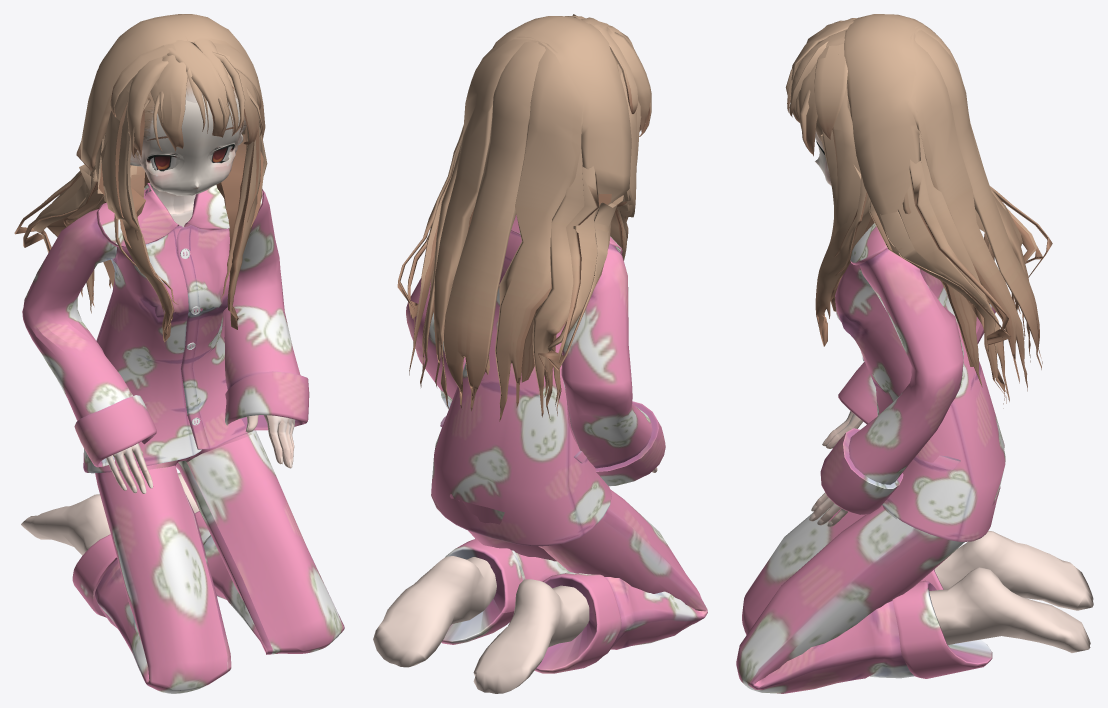
File: JUES_2_DZ.fbx
3 renders of one model, left to right at view 1: azimuth 30°, elevation 25°; view 2: azimuth 150°, elevation 25°; view 3: azimuth 270°, elevation 25°, orthographic. The views are drawn at different scales.
Parts seen in each view (by area): view 1: group6; view 2: group6; view 3: group6.
Part boxes in pixels (bbox=[...]): group6: bbox=[14, 14, 344, 693]; group6: bbox=[373, 14, 707, 693]; group6: bbox=[736, 14, 1093, 693].
Bounding box in the file's own units: 181 × 455 × 229.
5 materials, 4 textured.
